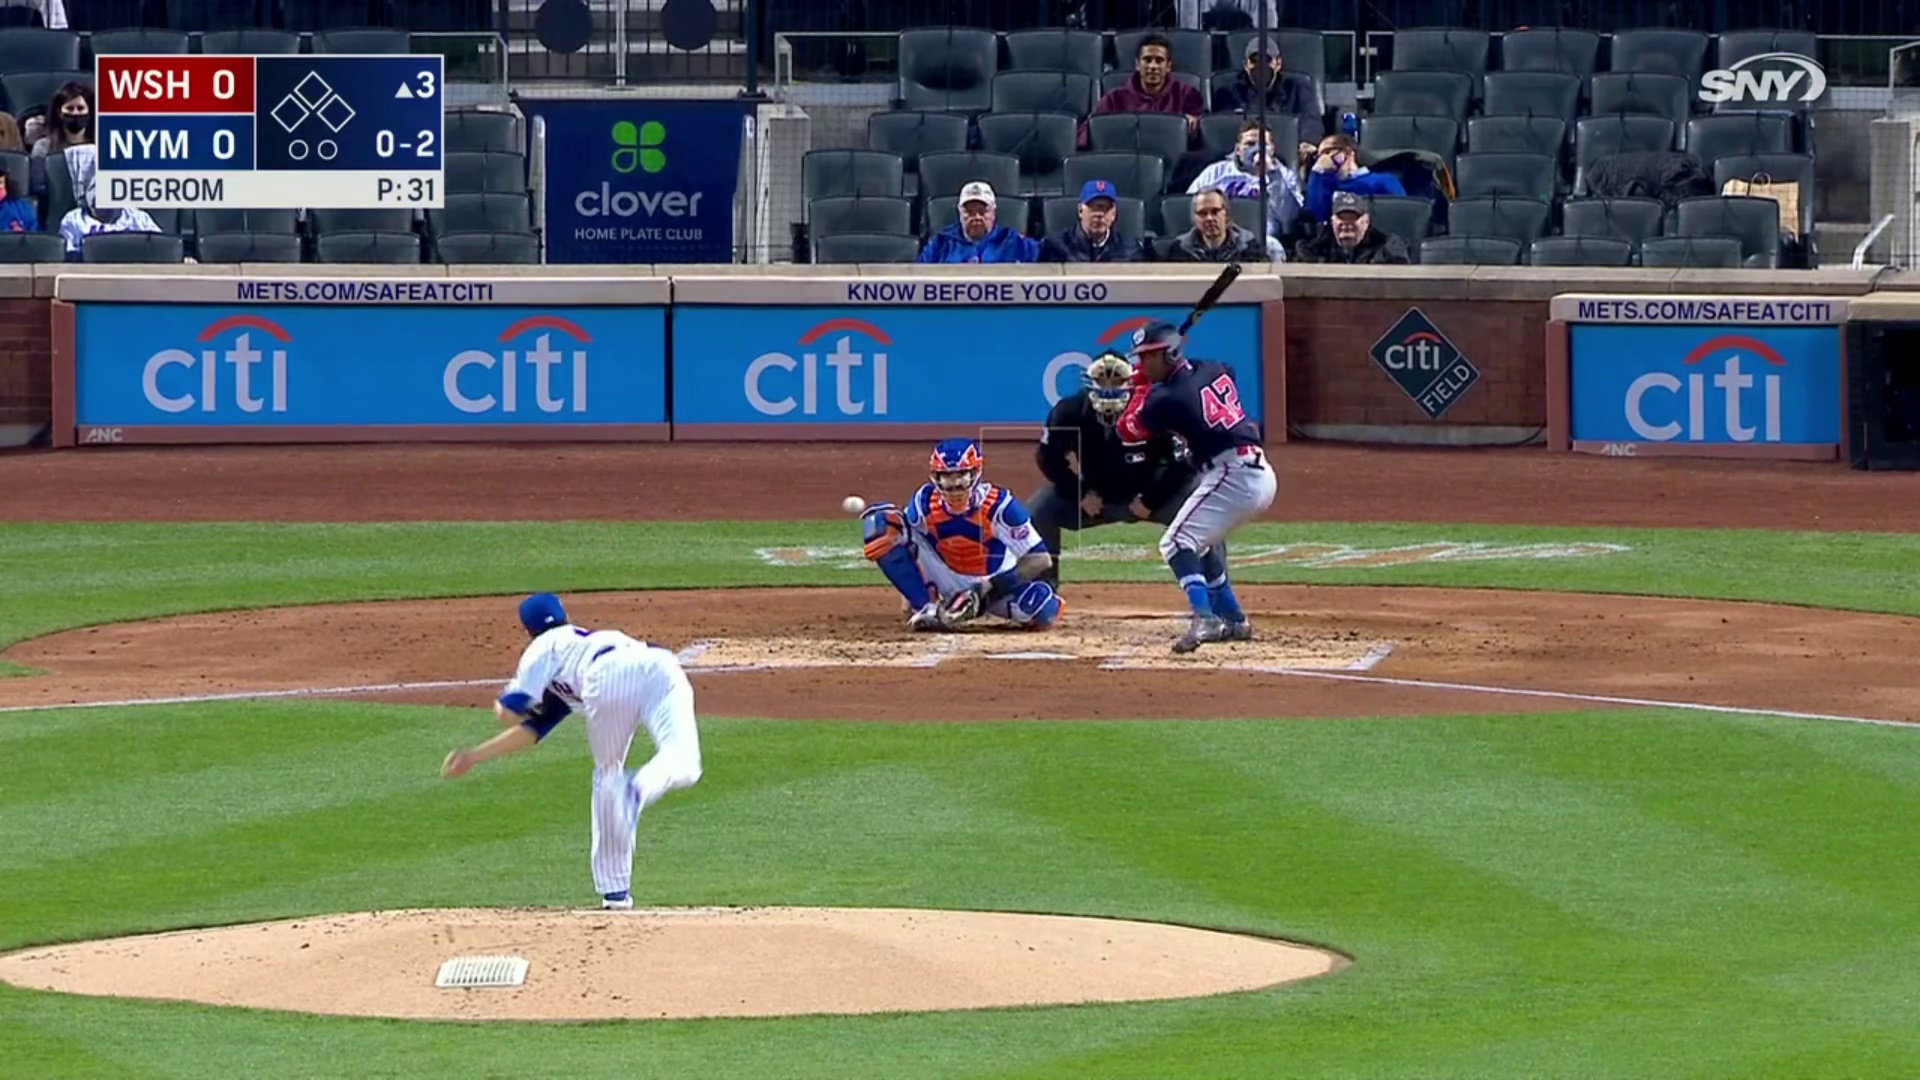baseball: (843, 495, 864, 514)
